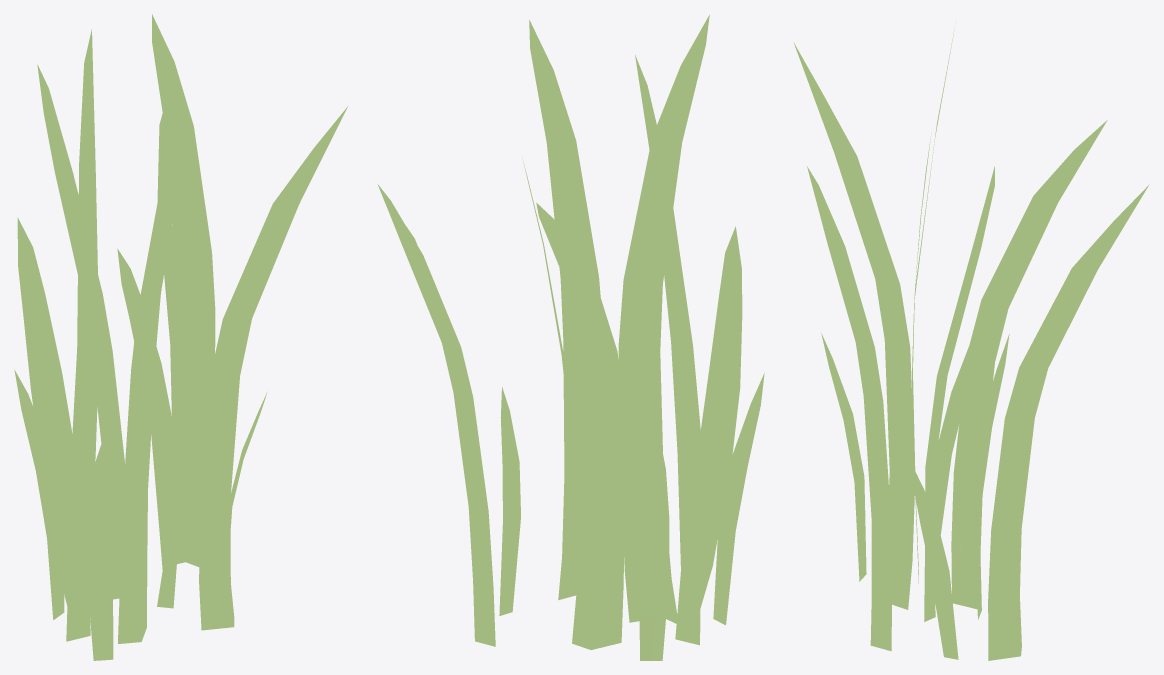
File: grass_common_short.glb
3 views of the same model, side by side, from view 1: azimuth 30°, elevation 25°; view 2: azimuth 150°, elevation 25°; view 3: azimuth 270°, elevation 25° (orthographic). The views are drawn at different scales.
Visible parts, largest first — view 1: Grass_Common_Short; view 2: Grass_Common_Short; view 3: Grass_Common_Short.
Boxes of the visible parts, <box> form: Grass_Common_Short: <box>14,14,347,660</box>; Grass_Common_Short: <box>377,14,764,660</box>; Grass_Common_Short: <box>793,27,1149,660</box>.
Bounding box in the file's own units: 0.1197 × 0.25 × 0.1382.
